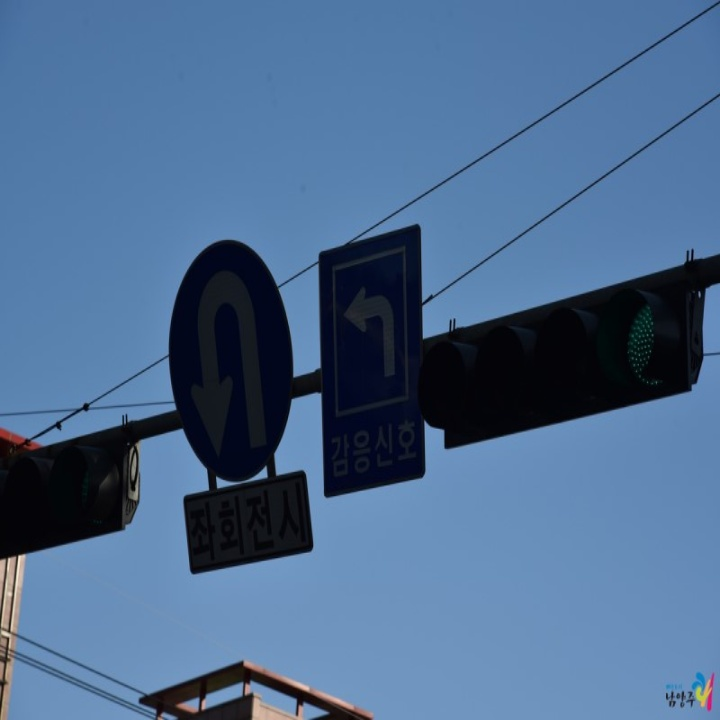left: (337, 279, 401, 383)
